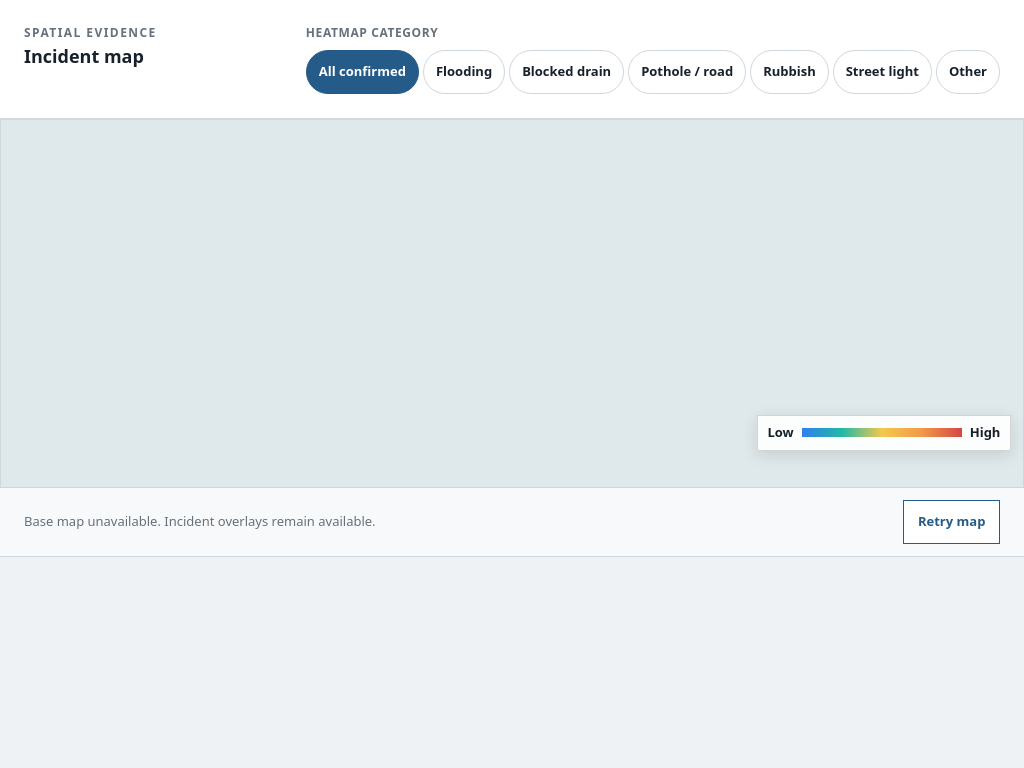
Scenario: IncidentMapPanel › keeps incident overlays available when the base map degrades and offers retry
The width and height of the screenshot is (1024, 768).
Click the button "Retry map": (952, 522) [903,500,1000,544]
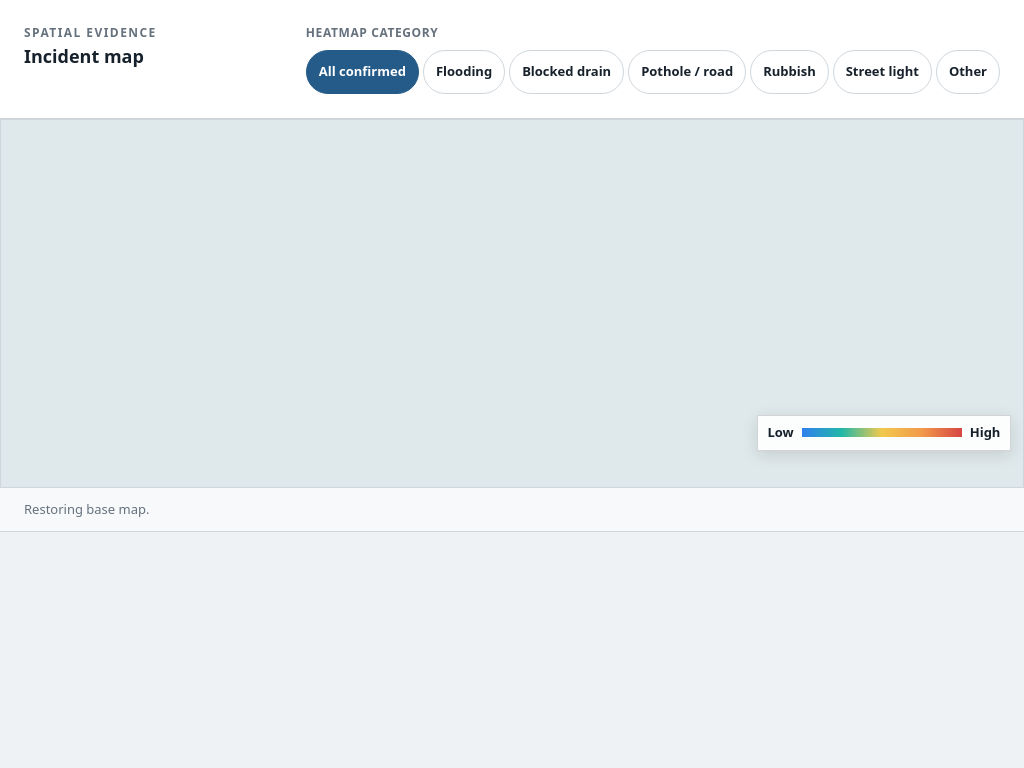
Check: the text "Restoring base map" is shown, box [24,500,150,518]
